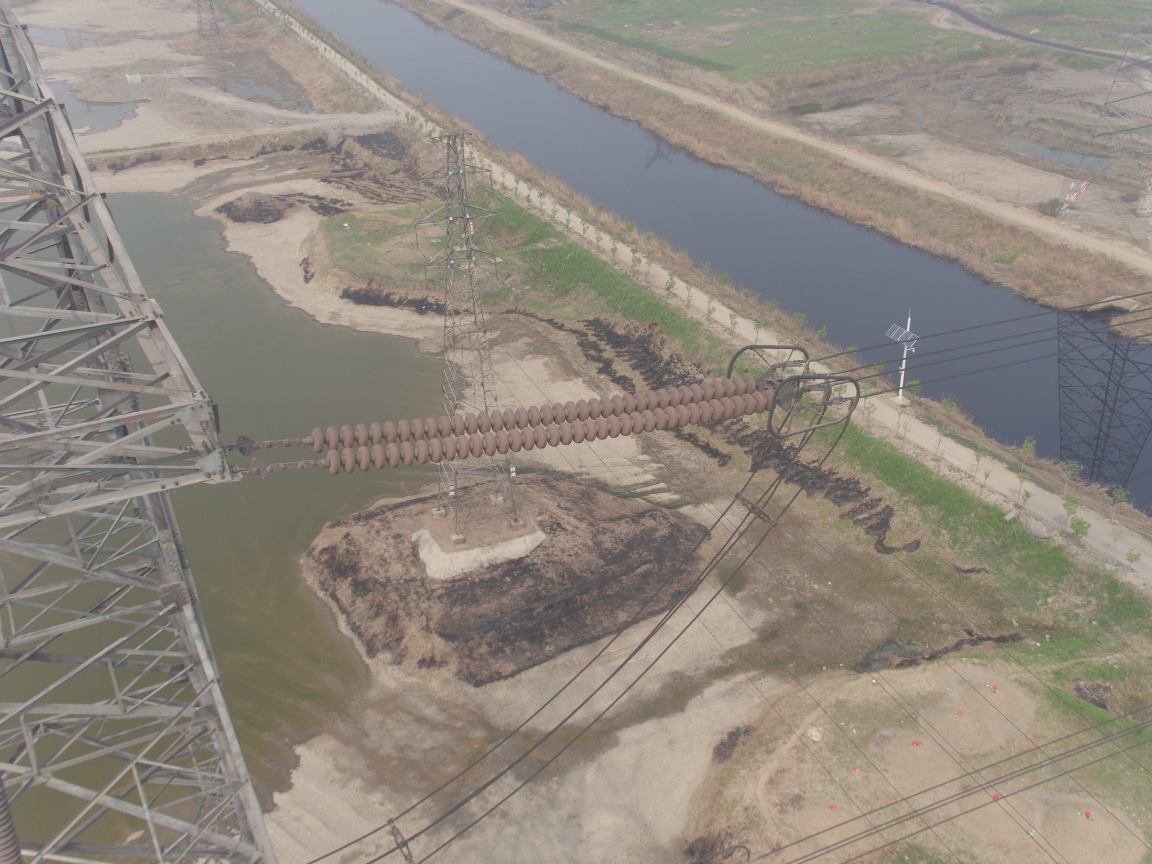insulator: (287, 365, 787, 474)
